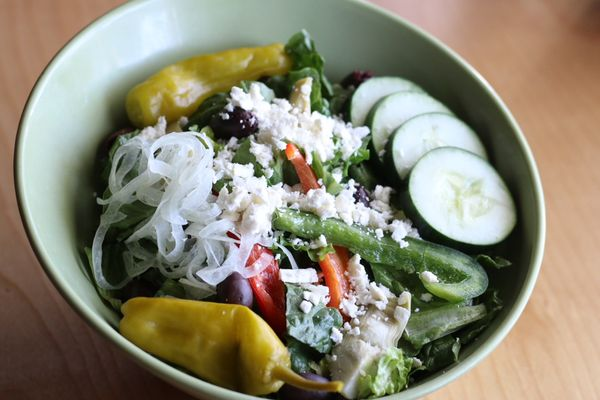sushi: (9, 2, 545, 389)
